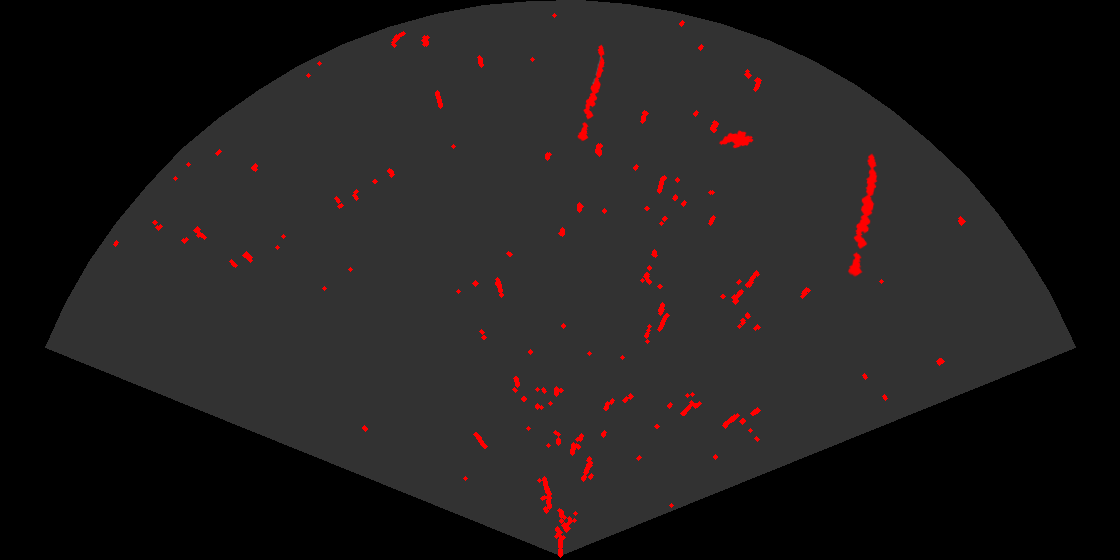AUV: (718, 129, 755, 150)
chain: (846, 152, 879, 279), (576, 43, 606, 144)
